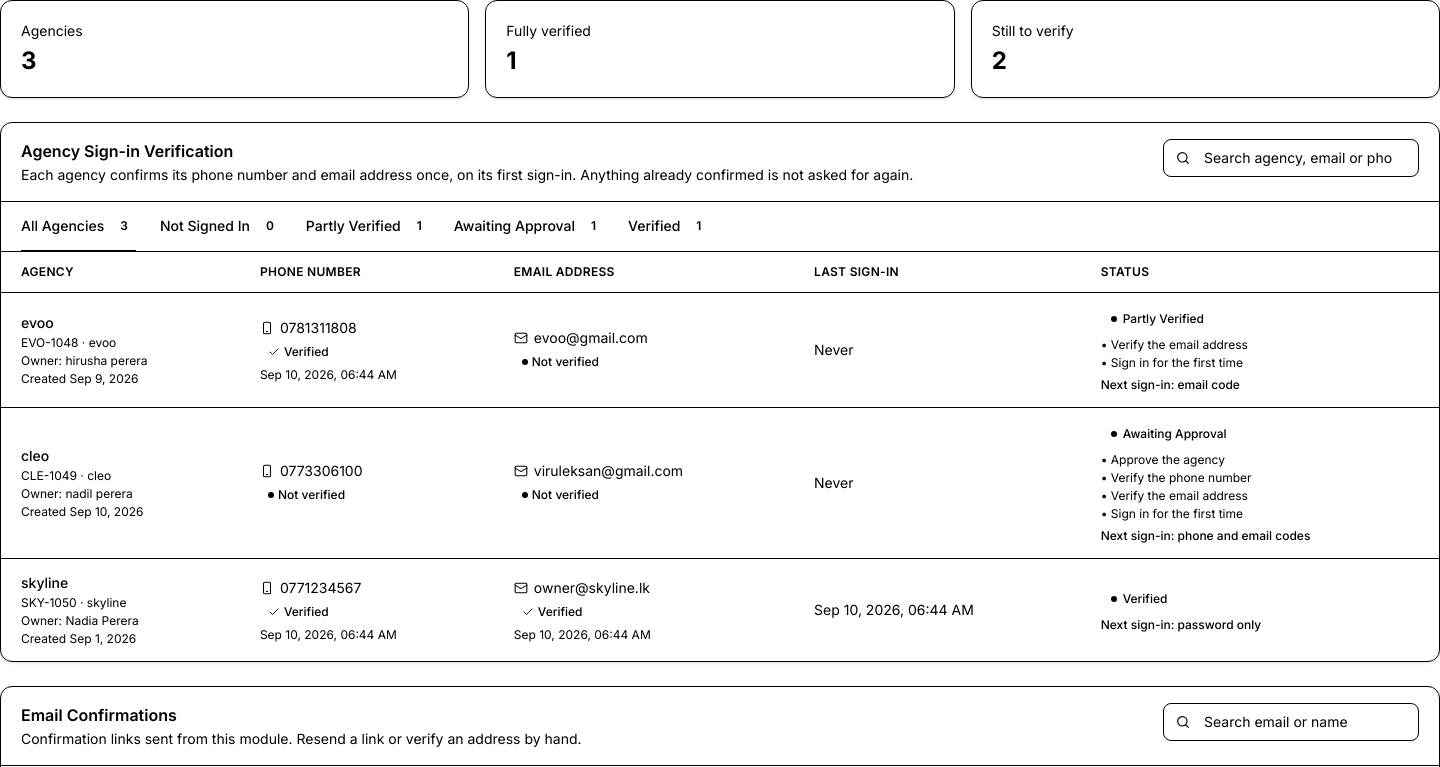
Test: agency sign-in verification › finds an agency by its owner email or phone
Expected: the text "evoo" is shown, [21,314,54,331]
Type "viruleksan" into the search field named "search agencies".
click(1291, 158); type("viruleksan")  # box [1163,139,1419,177]
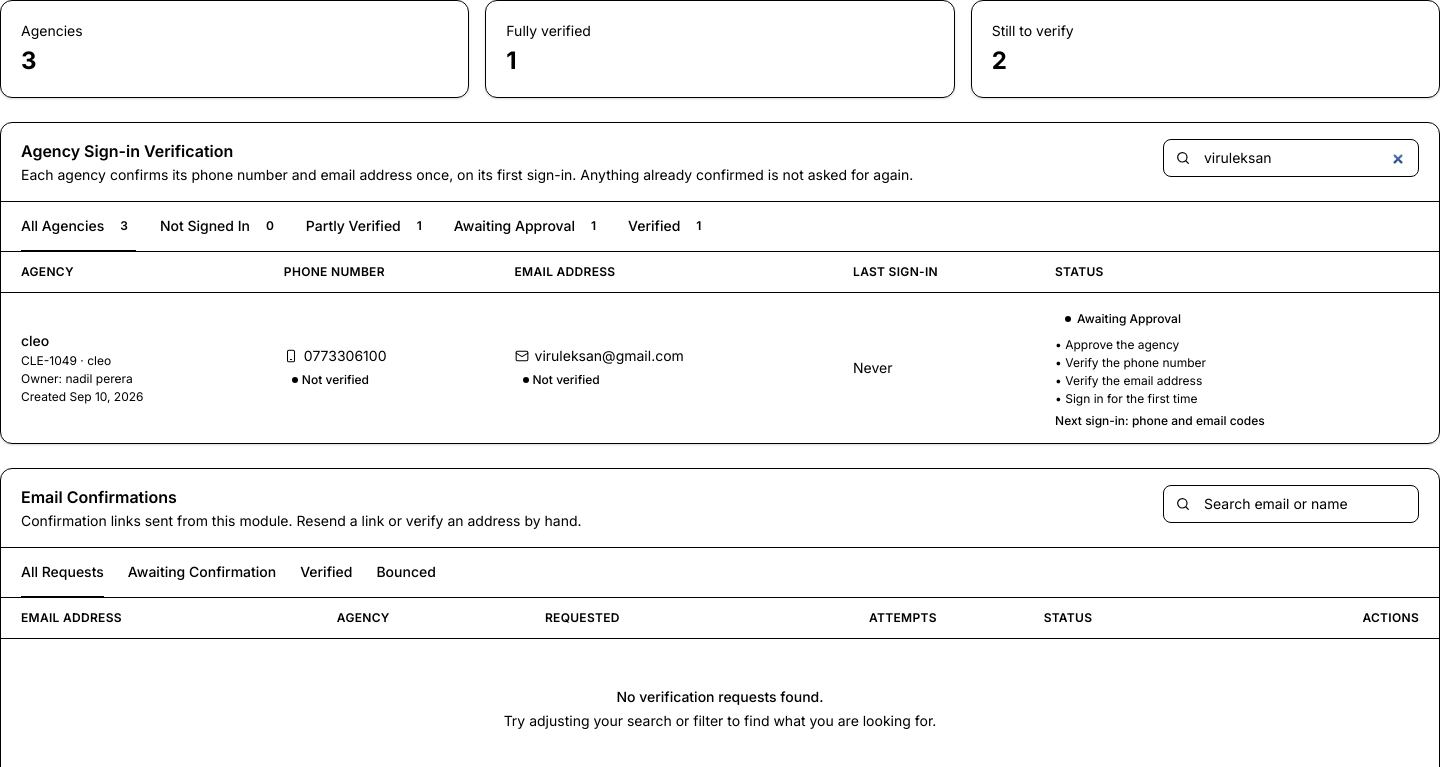
Expected: the text "cleo" is shown, [21,332,49,349]
Expected: the text "evoo" is gone
Replace the text in the search field named "search agencies" with "0781311808" at (1291, 158), box [1163,139,1419,177]
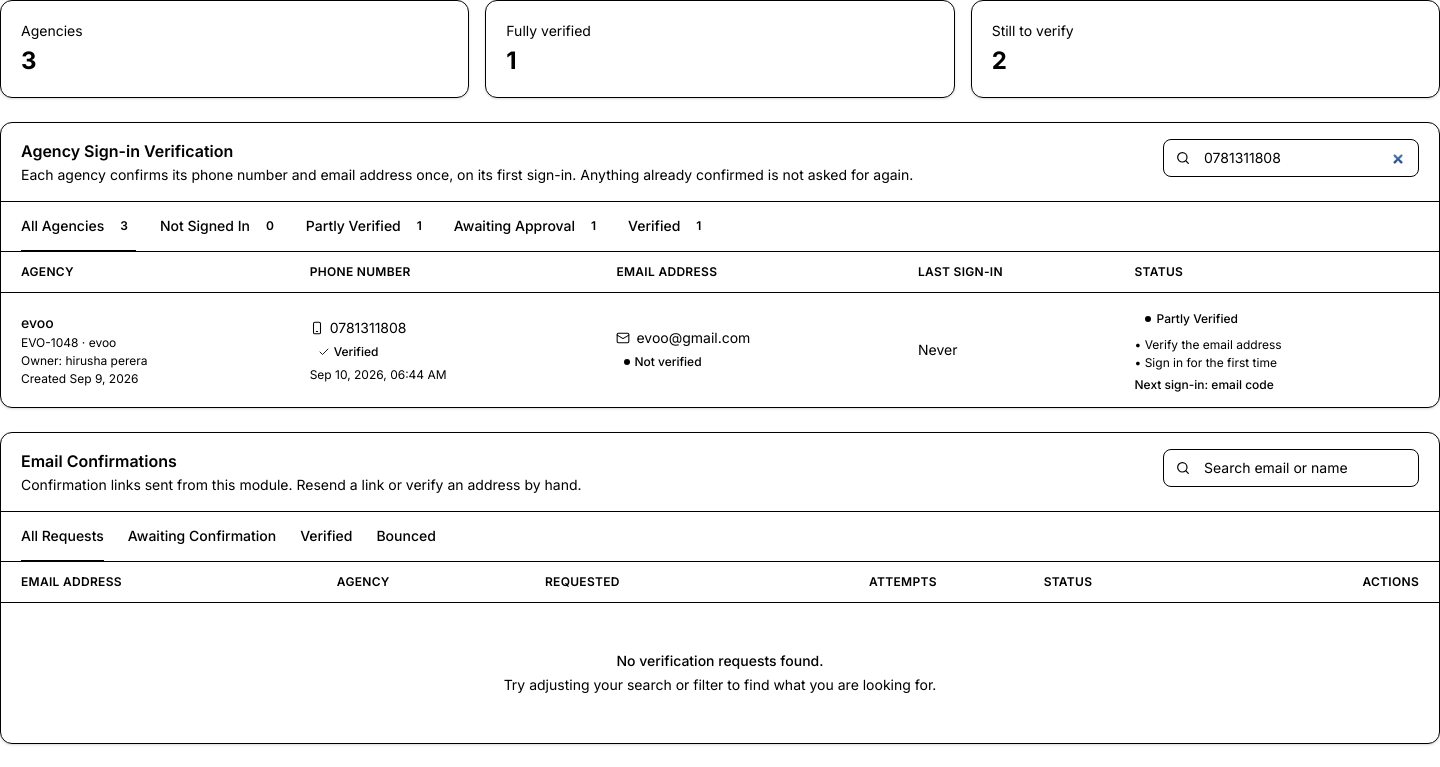
Expected: the text "evoo" is shown, [21,314,54,331]
Expected: the text "cleo" is gone
